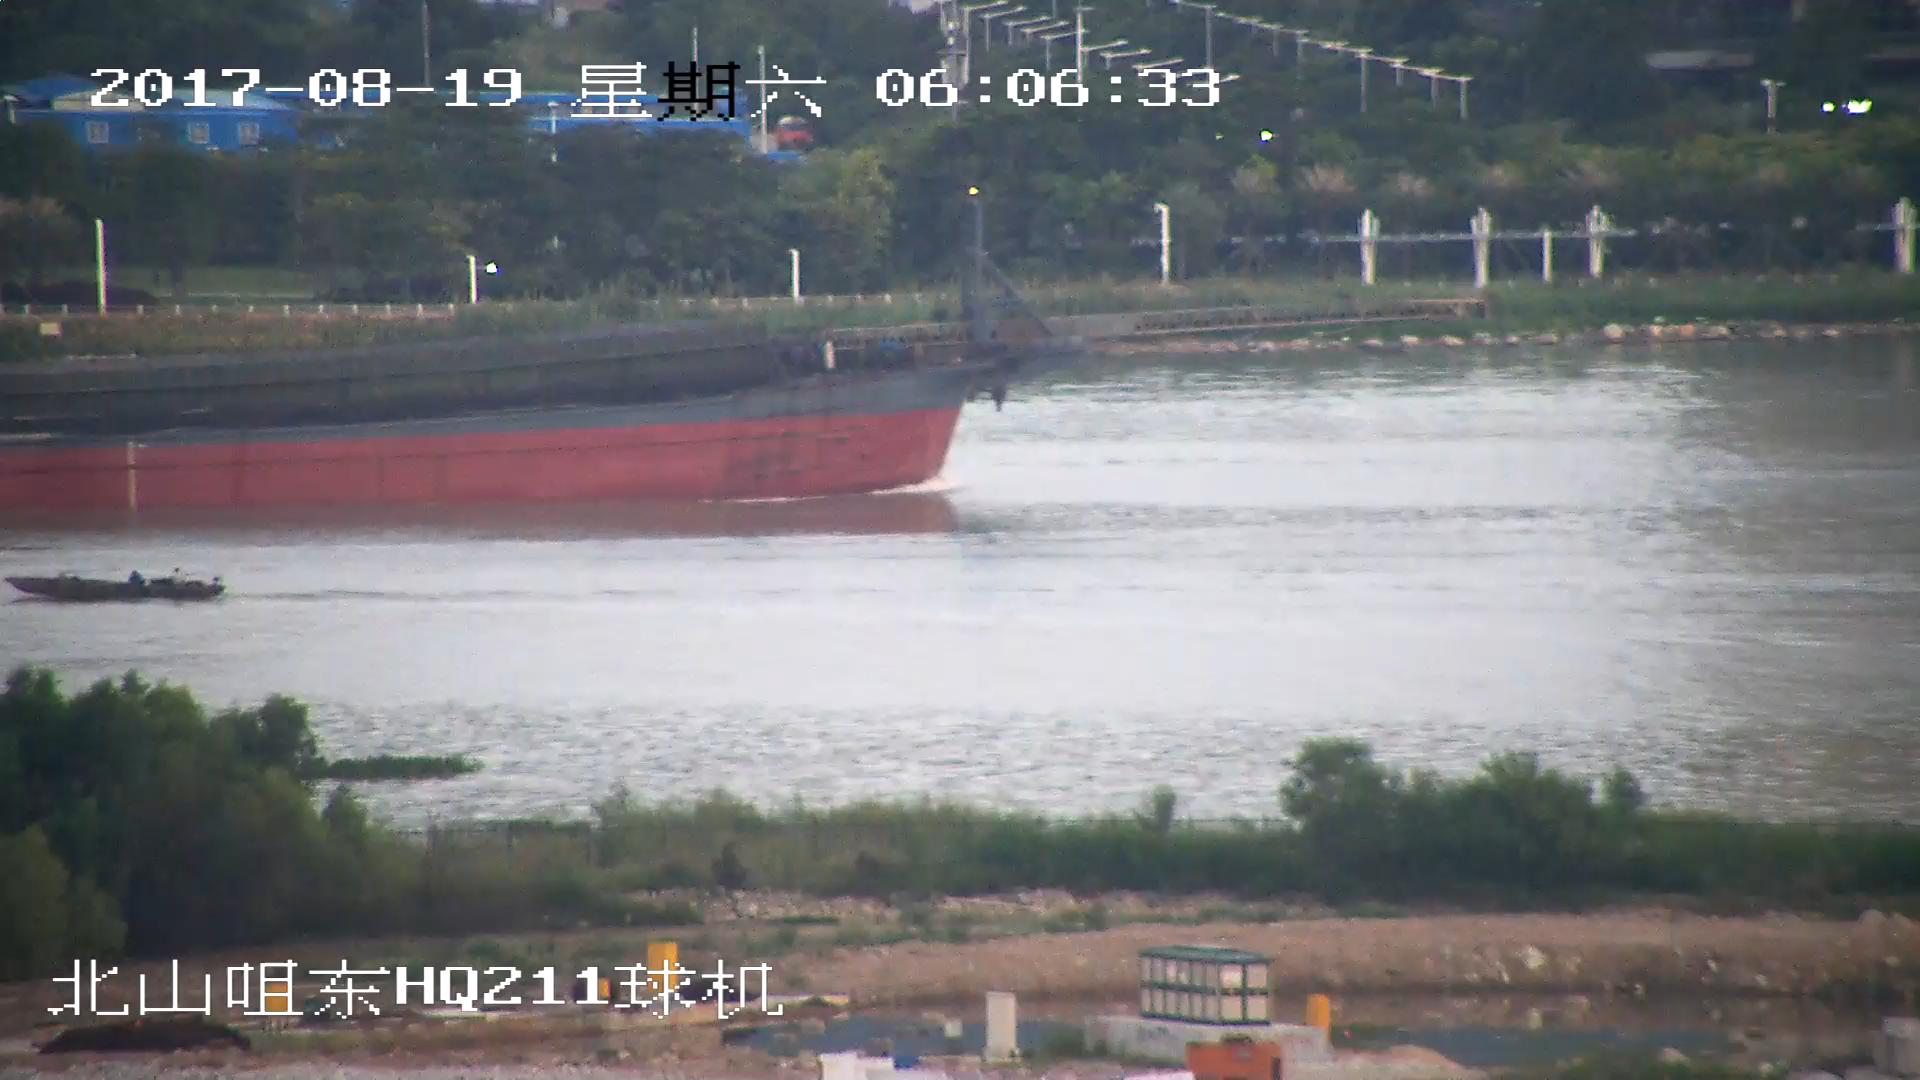bulk cargo carrier: (1, 197, 1484, 529)
fishing boat: (1, 561, 228, 605)
